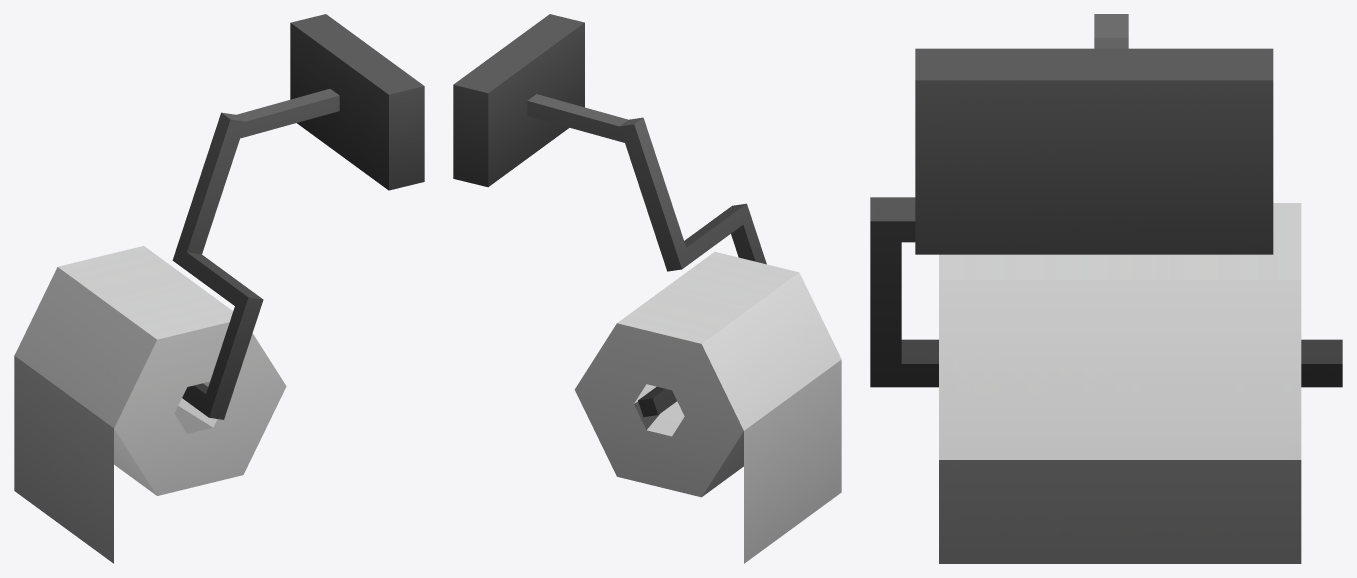
The model's file is carta_igienica.fbx.
3 renders of one model, left to right at view 1: azimuth 30°, elevation 25°; view 2: azimuth 150°, elevation 25°; view 3: azimuth 270°, elevation 25°, orthographic. The views are drawn at different scales.
Parts seen in each view (by area): view 1: carta; view 2: carta; view 3: carta.
Part boxes in pixels (x1=…): carta: x1=14, y1=14, x2=424, y2=563; carta: x1=453, y1=14, x2=841, y2=563; carta: x1=870, y1=14, x2=1342, y2=563.
Bounding box in the file's own units: 79.1 × 102 × 58.6.
